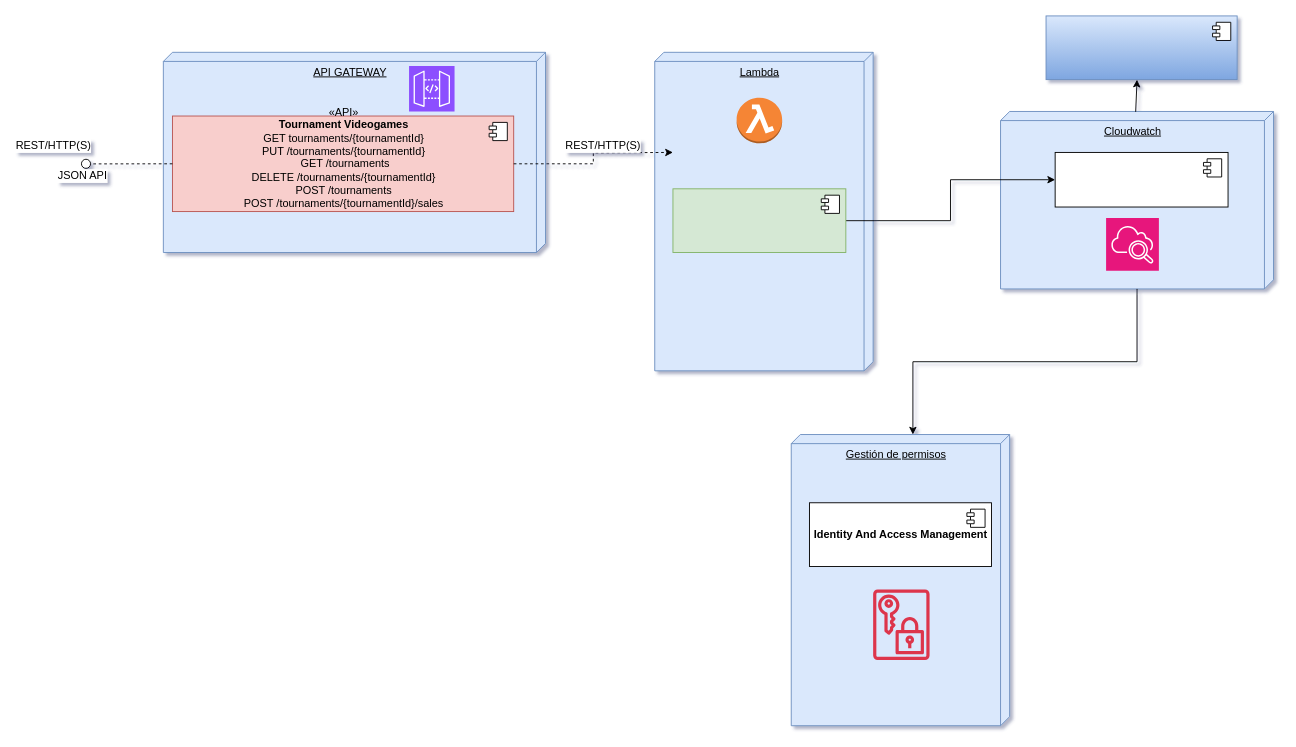
Some shapes in this 1296 by 747 pixel diagram are drawn without their labels. The box of each missing label's shape, as (x1, y1, x2, y2) in pixels:
Logs Insights: (1054, 152, 1228, 207)
Lógica de negocio (Funciones Lambda): (672, 188, 846, 253)
Postman - Pruebas unitarias: (1045, 15, 1237, 80)
